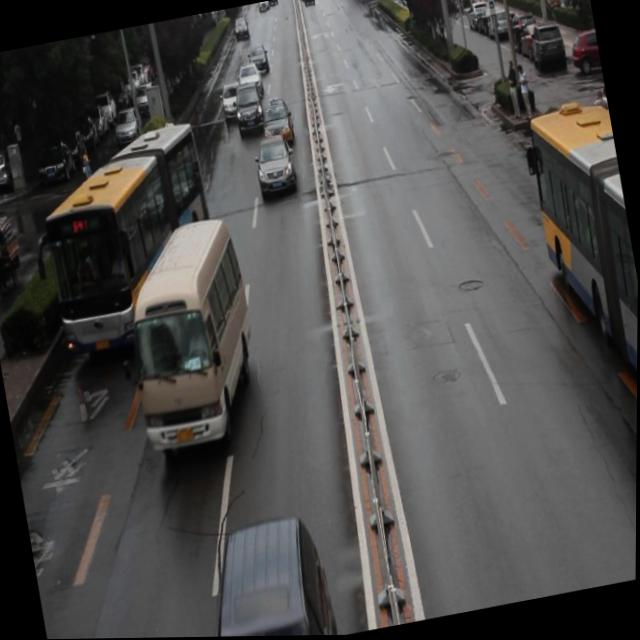car: (197, 515, 339, 638), (79, 161, 158, 236), (250, 132, 296, 198), (151, 122, 194, 179), (257, 97, 295, 151), (231, 82, 265, 133), (218, 80, 250, 123)
truck: (118, 218, 271, 456)
van: (31, 127, 233, 356), (518, 108, 639, 470)
